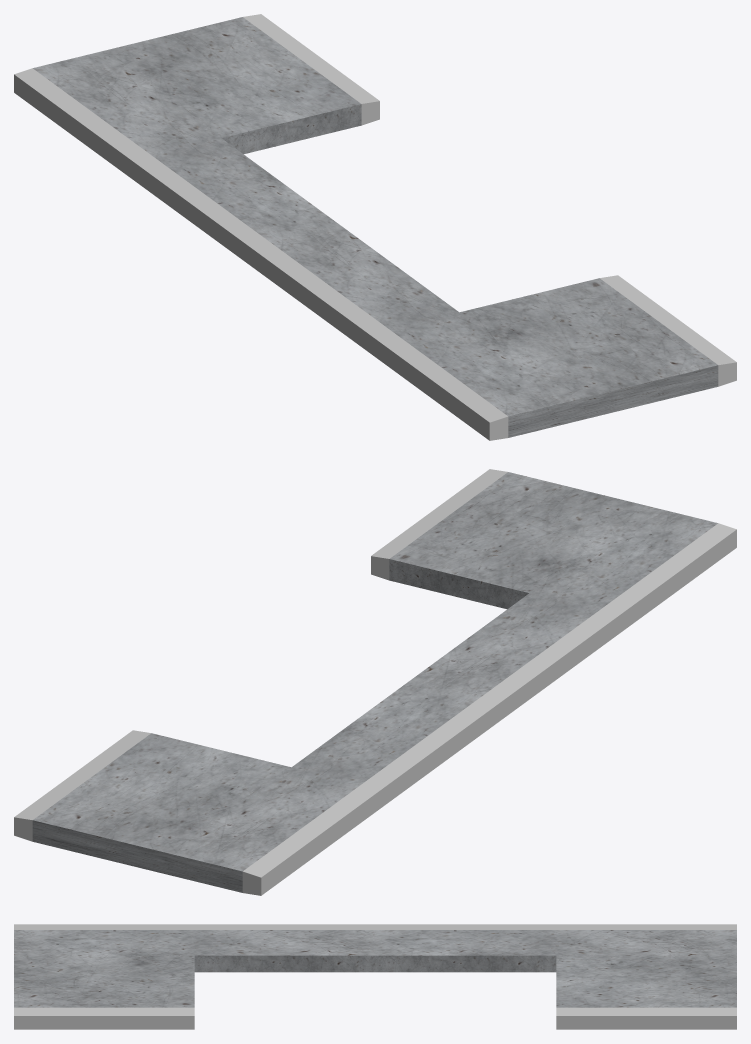
The model's file is Platform-Base-Left.fbx.
3 views of the same model, one above another, from view 1: azimuth 30°, elevation 25°; view 2: azimuth 150°, elevation 25°; view 3: azimuth 270°, elevation 25° (orthographic). The views are drawn at different scales.
Parts seen in each view (by area): view 1: Platform-Base-Left; view 2: Platform-Base-Left; view 3: Platform-Base-Left.
Boxes of the visible parts, bbox=[...] form: Platform-Base-Left: bbox=[14, 14, 736, 440]; Platform-Base-Left: bbox=[14, 469, 736, 895]; Platform-Base-Left: bbox=[14, 924, 736, 1029].
Bounding box in the file's own units: 24 × 80 × 2.
